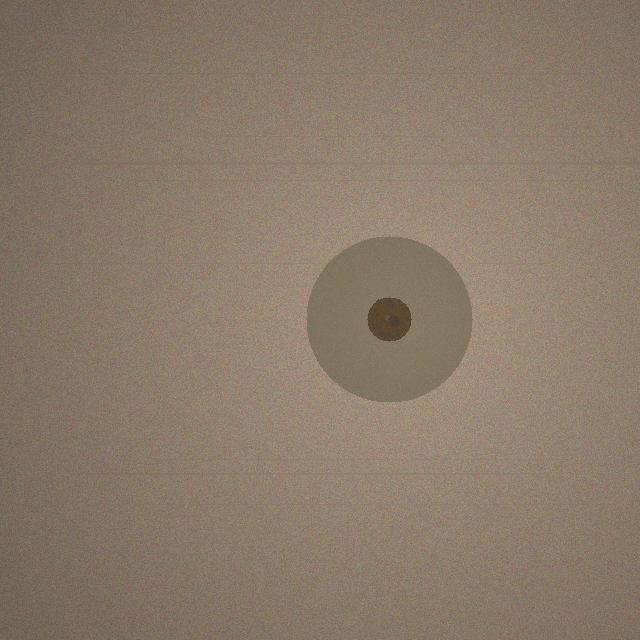cold_weld: (306, 236, 472, 402)
